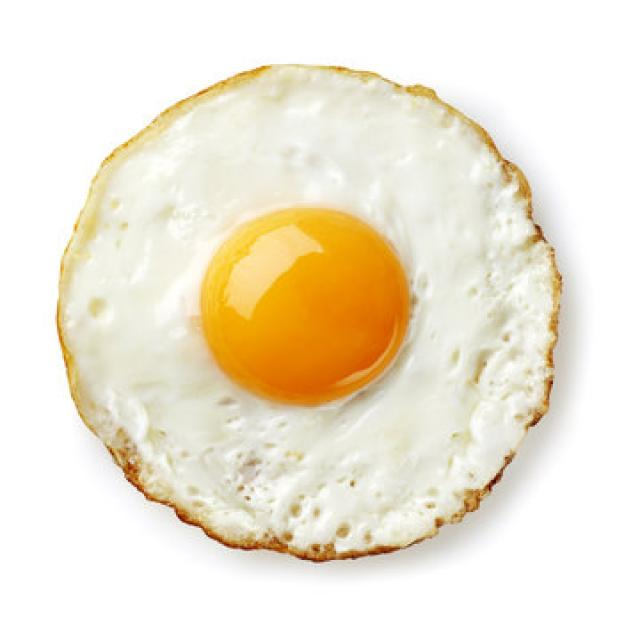Egg: (58, 65, 560, 559)
